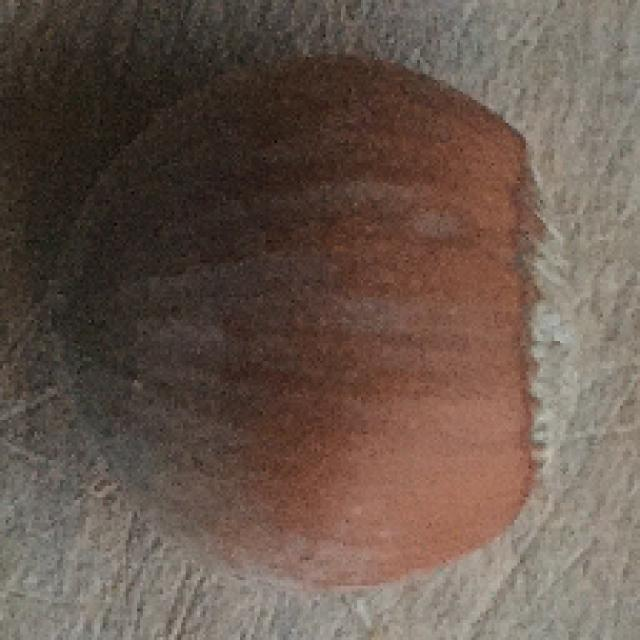qualityHazelnut: (57, 46, 583, 596)
